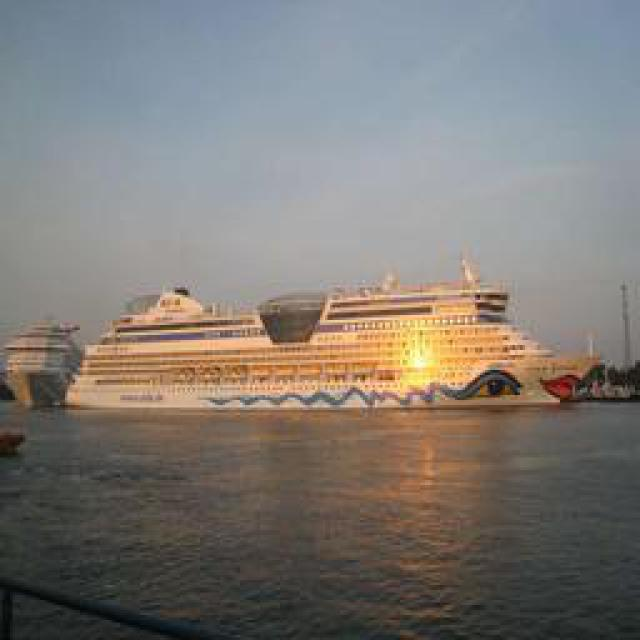Ship: (67, 276, 607, 414)
